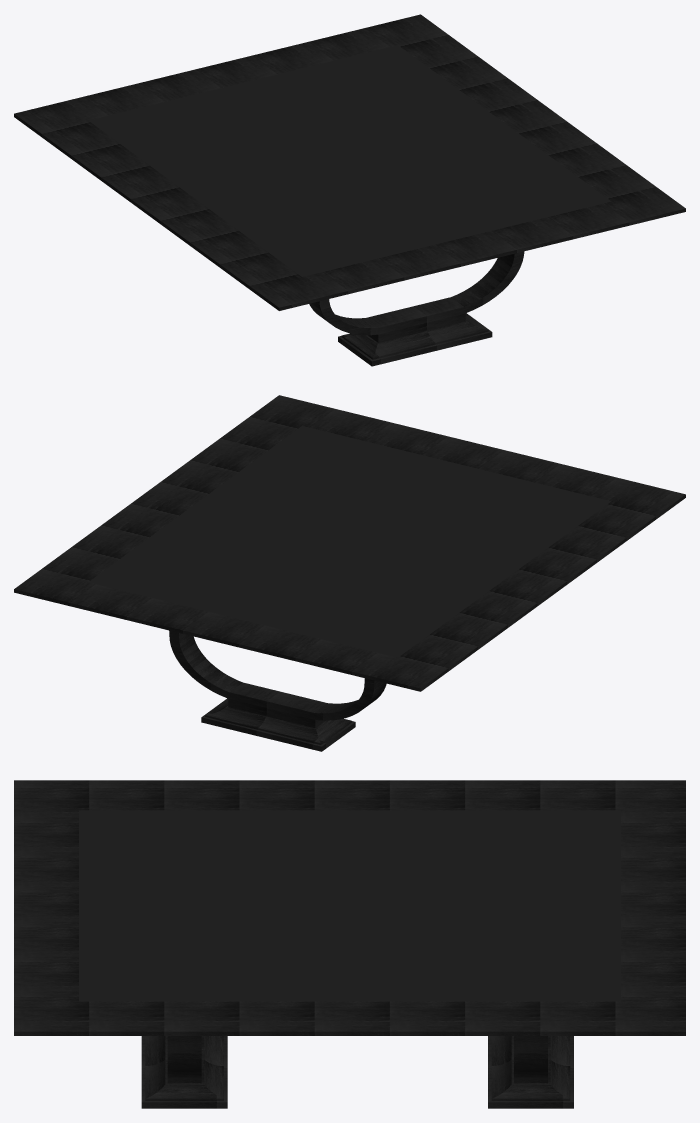
Rendered from Mesa_2.obj.
3 views of the same model, one above another, from view 1: azimuth 30°, elevation 25°; view 2: azimuth 150°, elevation 25°; view 3: azimuth 270°, elevation 25° (orthographic). The views are drawn at different scales.
Size of the model in its own units: 33.28 by 10.21 by 37.57.
1 material, 1 textured.
